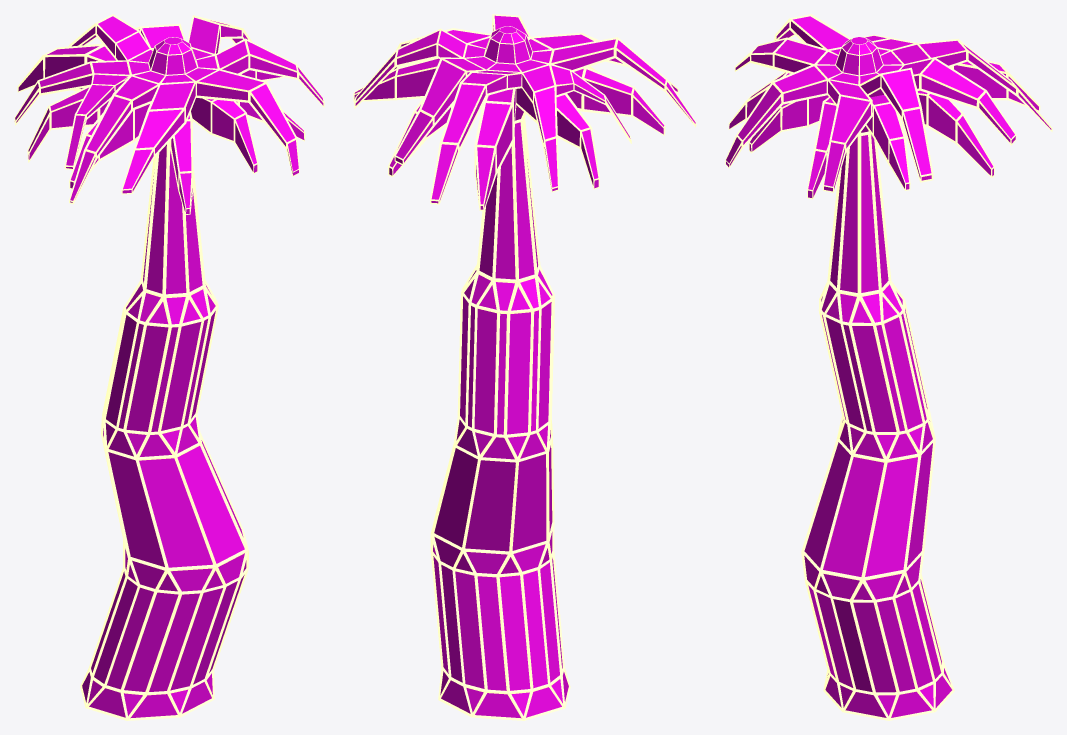
File: Palmera.fbx
The picture shows the model from 3 angles, left to right: view 1: azimuth 30°, elevation 25°; view 2: azimuth 150°, elevation 25°; view 3: azimuth 270°, elevation 25°; orthographic projection.
Visible parts, largest first — view 1: Palmera; view 2: Palmera; view 3: Palmera.
Boxes of the visible parts, x1,y1,x2,y2 form: Palmera: (14,14,324,720); Palmera: (353,14,696,720); Palmera: (725,14,1052,720).
Bounding box in the file's own units: 98.12 × 217 × 98.42.
